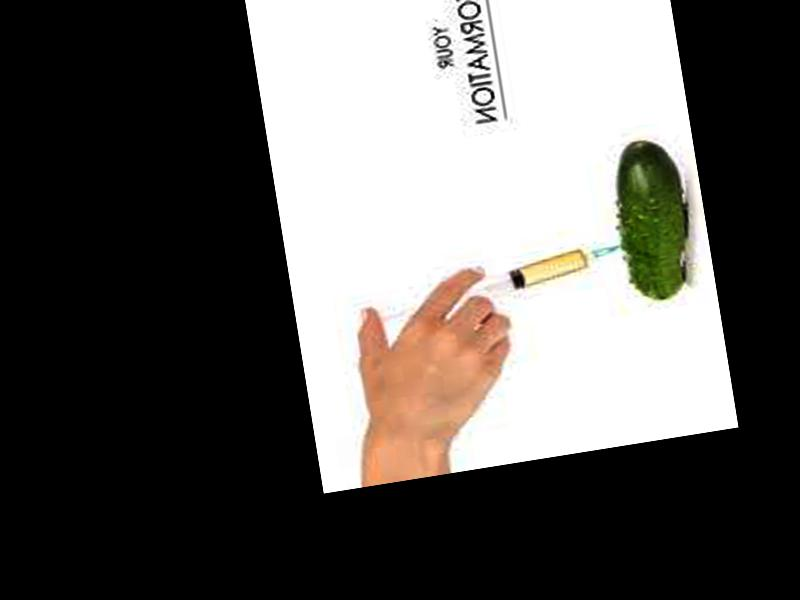Cucumber: (605, 136, 695, 306)
